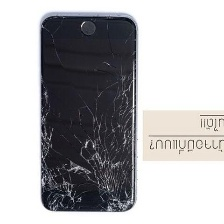phone: (34, 6, 141, 215)
